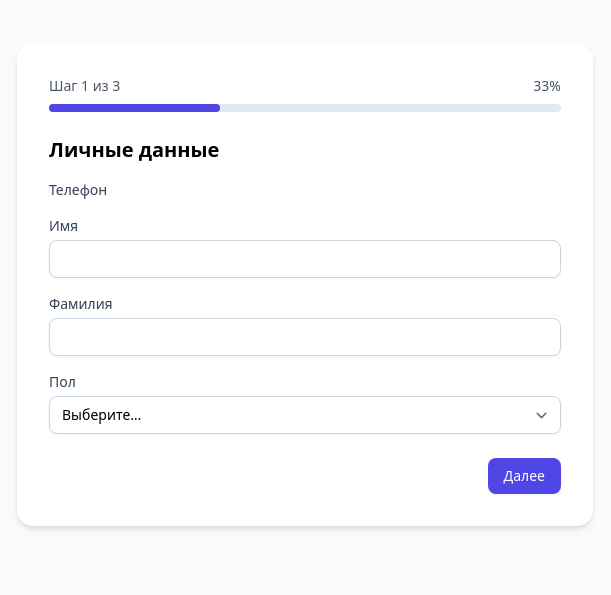
Scenario: wizard flow › блокирует переход с невалидного Step 1
Click the button "Далее" at (524, 476), box top-left (488, 458), bottom-right (561, 494)
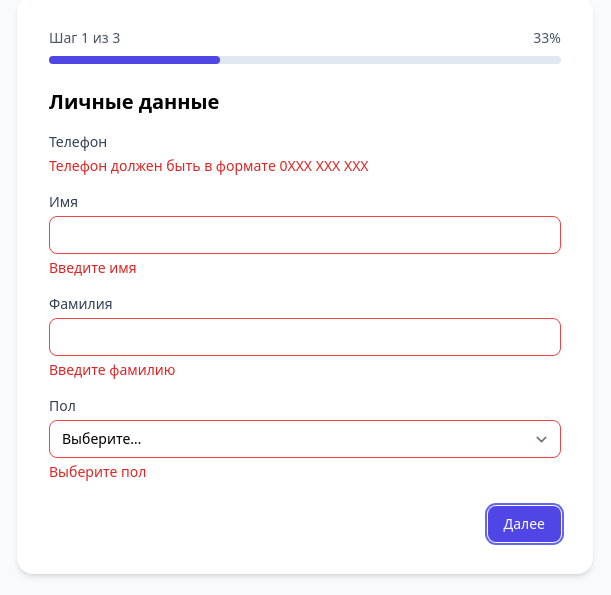
Check: the heading "Личные данные" is shown, box top-left (49, 88), bottom-right (219, 115)
Check: the text "Введите имя" is shown, box top-left (49, 258), bottom-right (136, 277)
